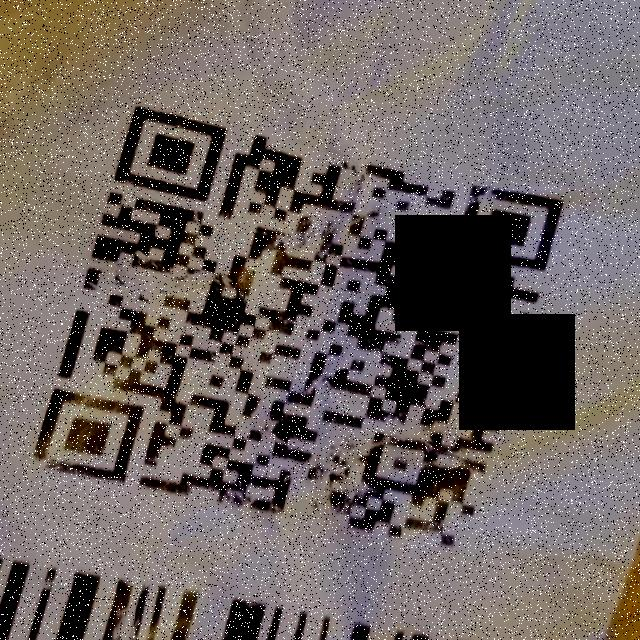QR_CODE: (20, 92, 572, 558)
